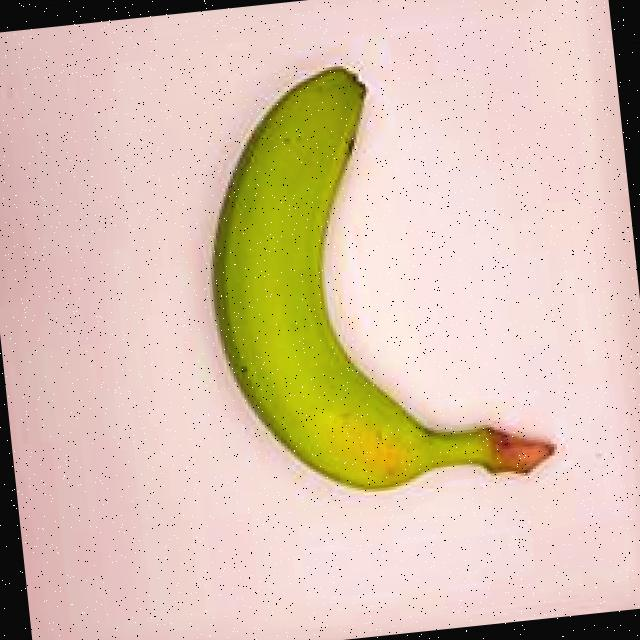Unripe: (168, 35, 580, 536)
